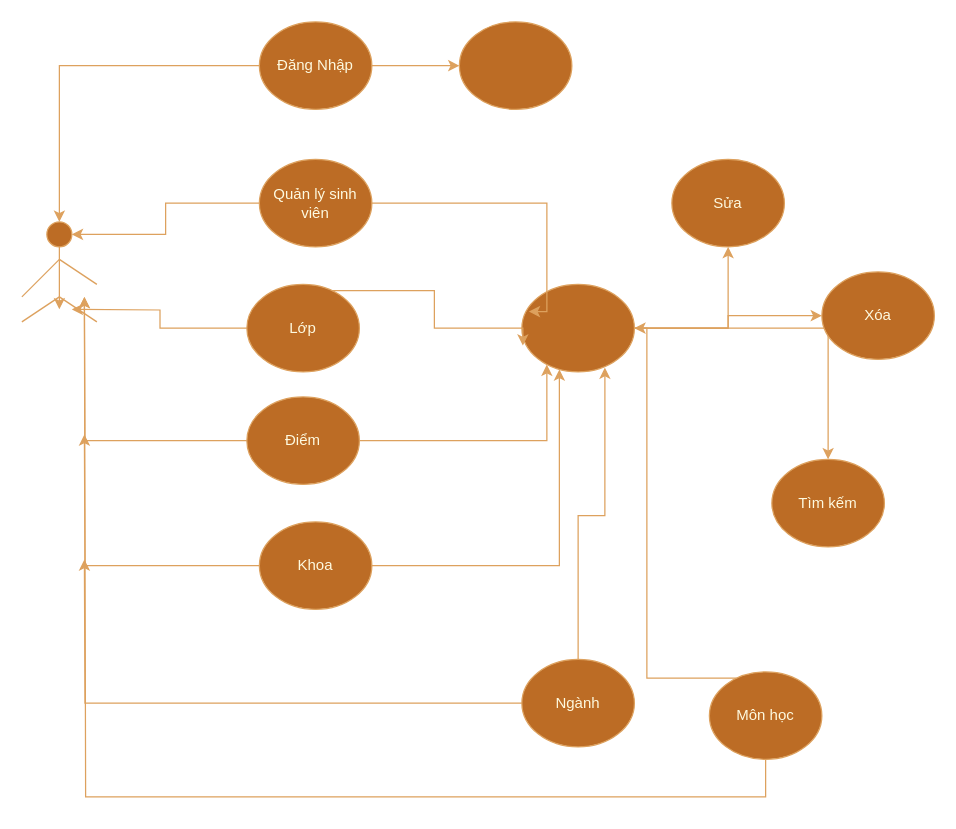
Image size: 956x829. Some labels were removed from this diagram. Each missing label, with the centre of its shape:
Thêm: the point at 577,327
Đổi mật khẩu: the point at 515,65
